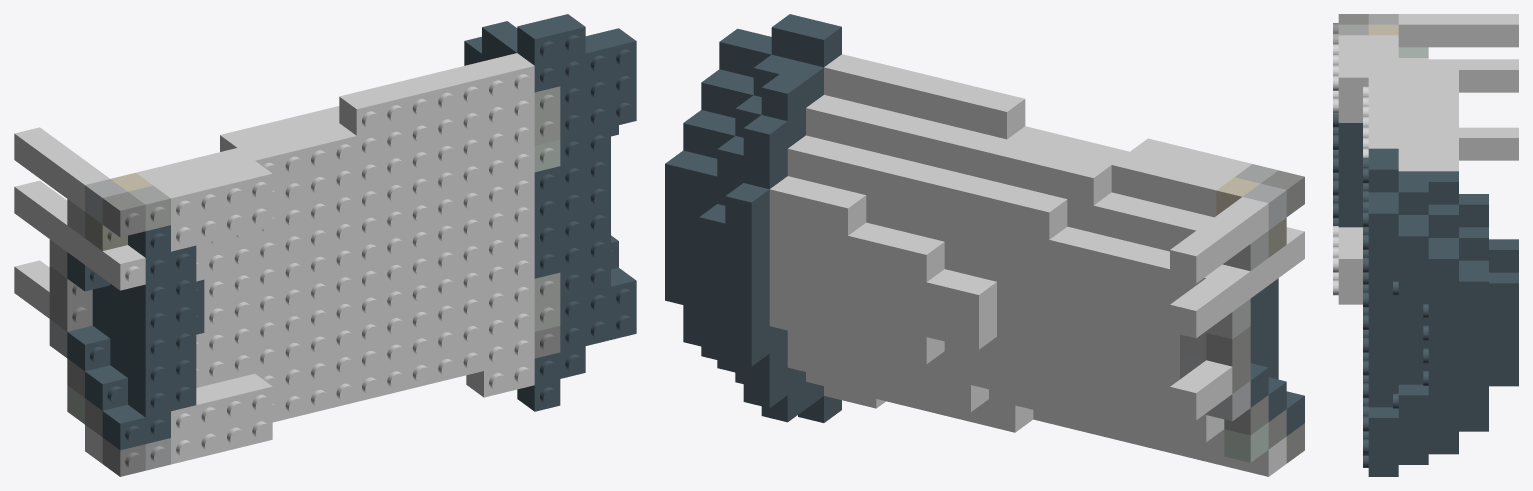
File: full.glb
3 renders of one model, left to right at view 1: azimuth 30°, elevation 25°; view 2: azimuth 150°, elevation 25°; view 3: azimuth 270°, elevation 25°, orthographic. The views are drawn at different scales.
Parts seen in each view (by area): view 1: world; view 2: world; view 3: world.
Boxes of the visible parts, box(x1,y1,x2,y2) form: world: box(14, 14, 636, 476); world: box(665, 14, 1304, 476); world: box(1333, 14, 1518, 476).
Bounding box in the file's own units: 168 × 112 × 59.4.
